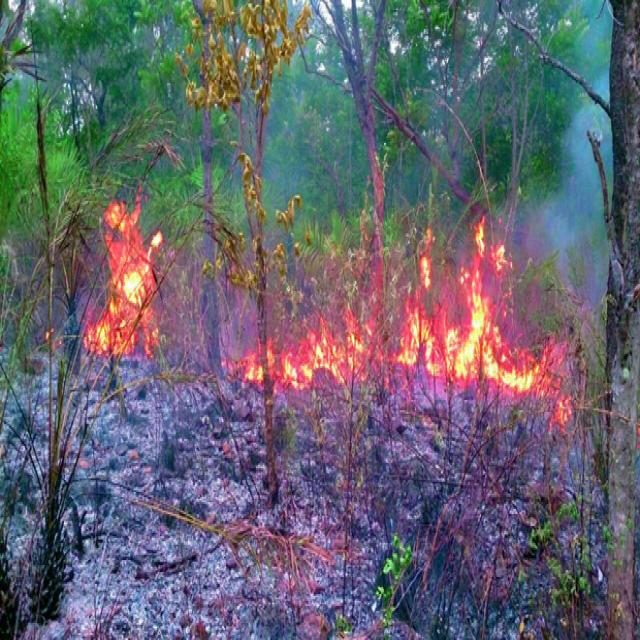fire: (406, 254, 510, 381), (92, 194, 154, 358)
